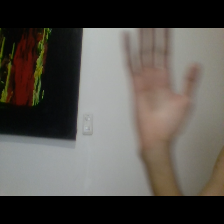left: (115, 28, 204, 155)
